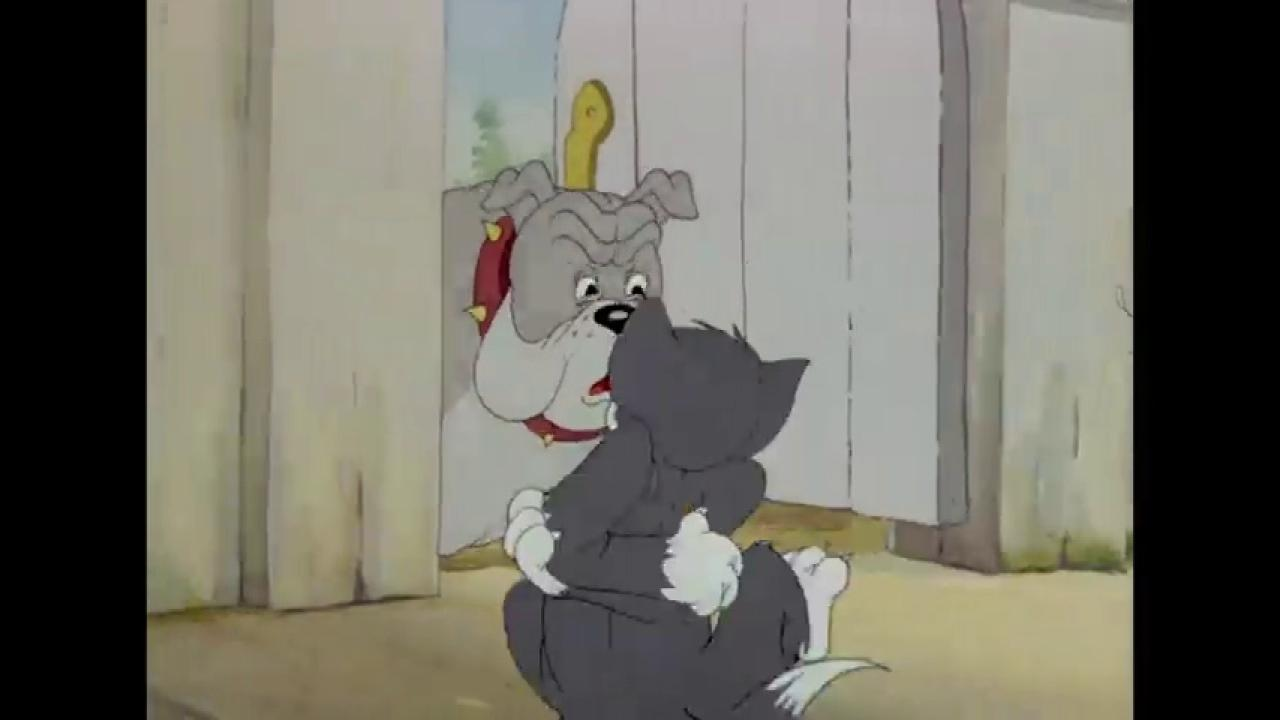Tom: (500, 292, 894, 720)
